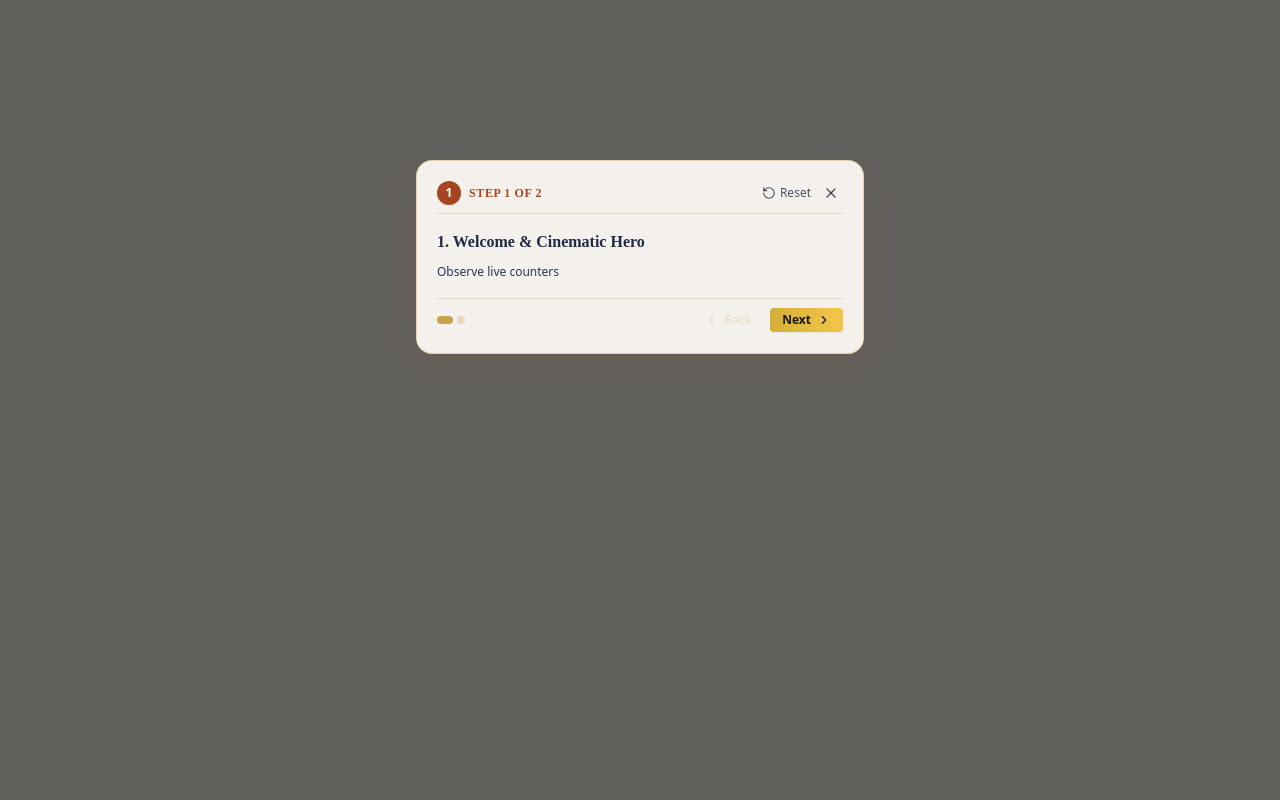
M5: DemoTourOverlay Reducer & Flow › starts demo mode and transitions steps
Check: the text "Step 1 of 2" is shown, box [469,185,542,201]
Click the button "Next". click: (807, 320)
box: [770,308,843,332]
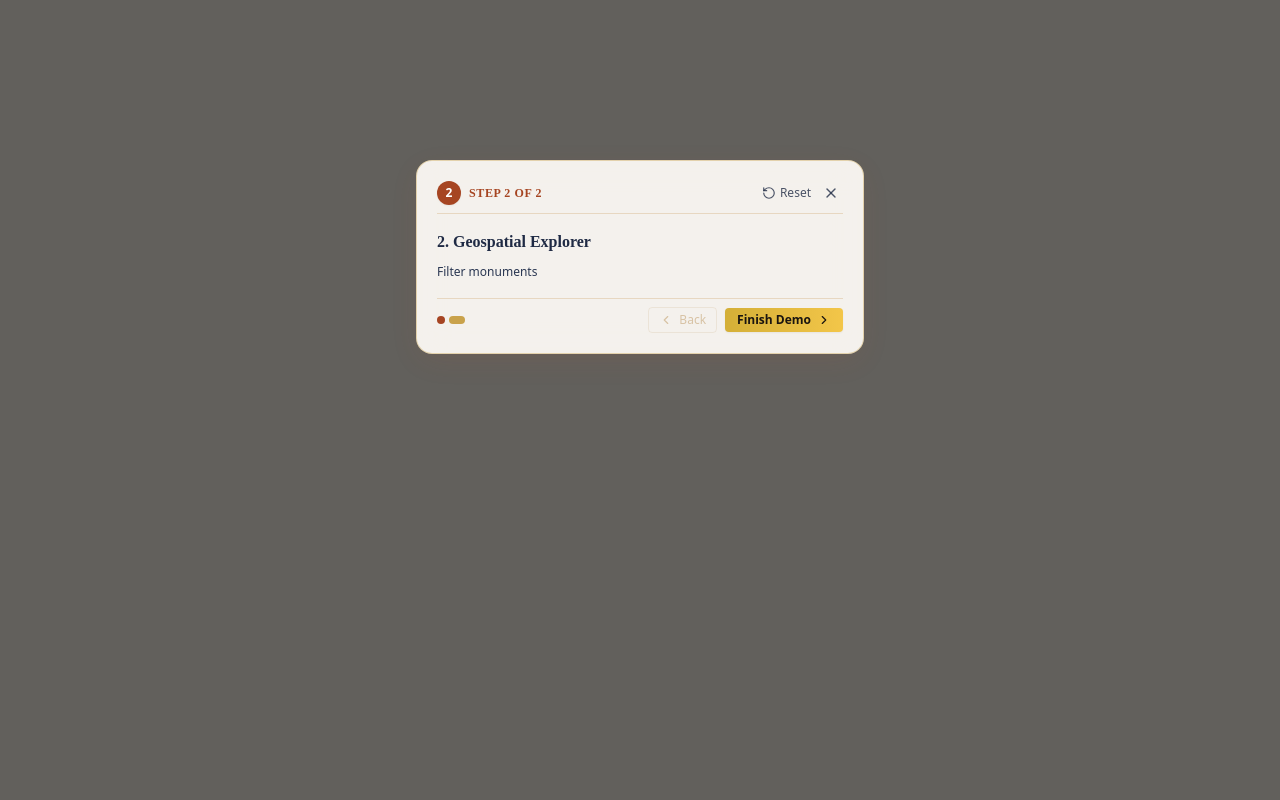
Check: the text "Step 2 of 2" is shown, box [469,185,542,201]
